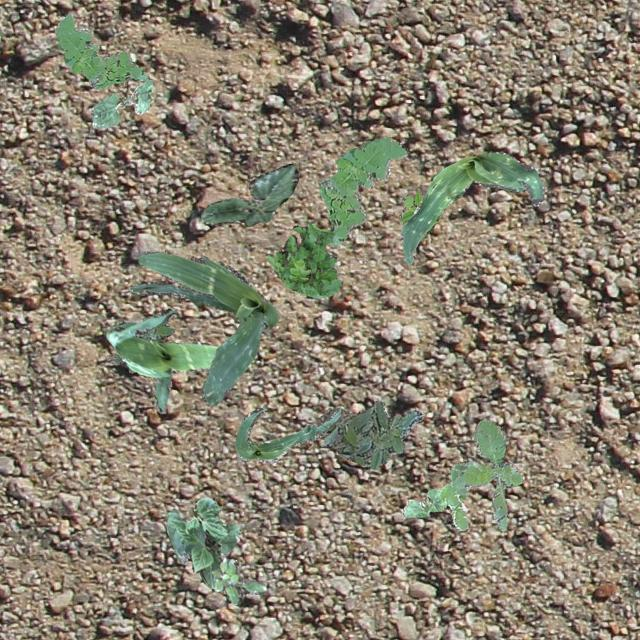crop: (129, 250, 277, 404), (399, 150, 544, 262), (105, 306, 218, 412), (164, 497, 240, 588), (200, 162, 298, 225), (234, 406, 340, 462), (91, 78, 151, 126), (402, 488, 446, 516)
weed: (320, 136, 406, 247), (438, 418, 522, 530), (318, 399, 422, 468), (54, 12, 148, 88), (266, 220, 342, 296), (108, 318, 172, 372), (210, 556, 264, 604), (398, 188, 430, 240)
